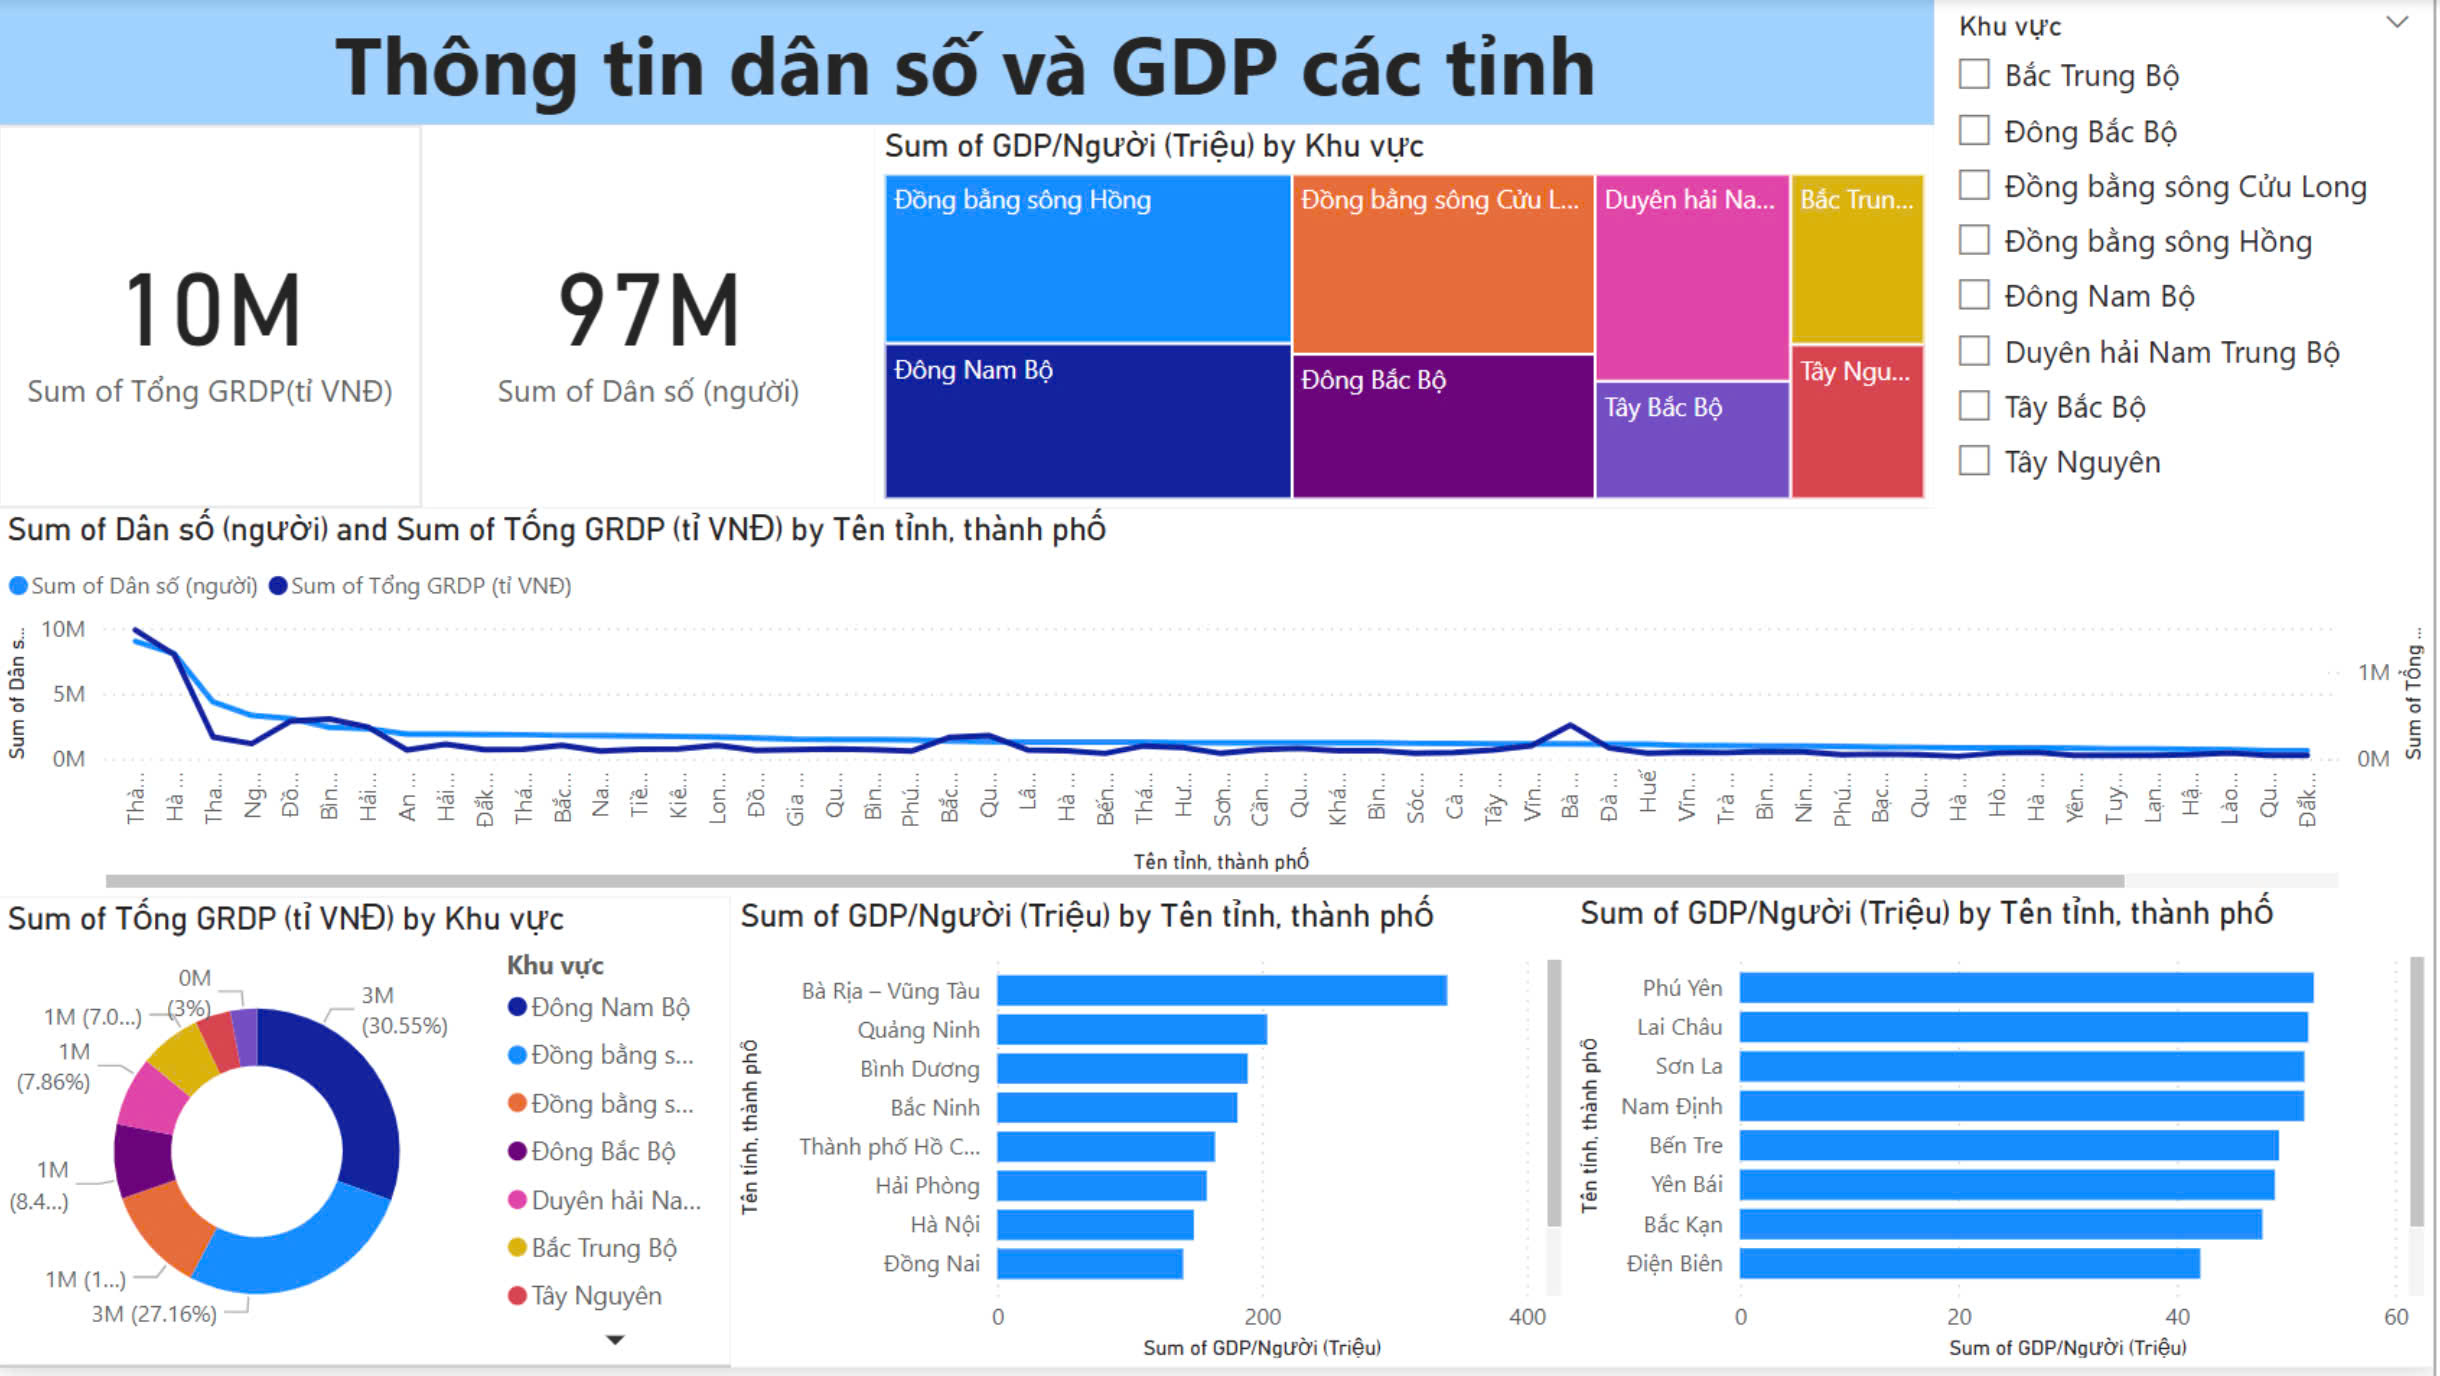

This screenshot's page, from the dashboard's own definition file:
{"tool":"powerbi","page":{"name":"Page 1","canvas":[1280,720],"ordinal":0},"visuals":[{"type":"card","fields":{"Values":["Sum(Danh sách các đơn vị hành chính Việt Nam theo Tổng sản phẩm trên địa bàn (GRDP).Tổng GRDP(tỉ VNĐ))"]},"box":[0,66.7,222.9,201.7],"z":0},{"type":"textbox","box":[0,0,1017.6,66.7],"z":1000},{"type":"card","fields":{"Values":["Sum(Danh sách các tỉnh thành.Dân số (người))"]},"box":[222.9,66.7,238.1,201.7],"z":2000},{"type":"lineChart","fields":{"Category":["Danh sách các tỉnh thành.Tên tỉnh, thành phố"],"Y":["Sum(Danh sách các tỉnh thành.Dân số (người))"],"Y2":["Sum(Danh sách các tỉnh thành.Tổng GRDP (tỉ VNĐ))"]},"box":[0,268.4,1280,204.7],"z":3000},{"type":"donutChart","fields":{"Category":["Danh sách các tỉnh thành.Khu vực"],"Y":["Sum(Danh sách các tỉnh thành.Tổng GRDP (tỉ VNĐ))"]},"box":[0,473.2,385.2,245.7],"z":3001},{"type":"barChart","fields":{"Category":["Danh sách các tỉnh thành.Tên tỉnh, thành phố"],"Y":["Sum(Danh sách các tỉnh thành.GDP/Người (Triệu))"]},"box":[385.2,471.7,441.3,248.7],"z":3002},{"type":"barChart","fields":{"Category":["Danh sách các tỉnh thành.Tên tỉnh, thành phố"],"Y":["Sum(Danh sách các tỉnh thành.GDP/Người (Triệu))"]},"box":[826.5,470.1,453.5,250.2],"z":3003},{"type":"slicer","fields":{"Values":["Danh sách các tỉnh thành.Khu vực"]},"box":[1017.6,0,262.4,268.4],"z":3004},{"type":"treemap","fields":{"Group":["Danh sách các tỉnh thành.Khu vực"],"Values":["Sum(Danh sách các tỉnh thành.GDP/Người (Triệu))"]},"box":[461,66.7,556.6,201.7],"z":3005}]}

Visuals, with their boxes in screenshot pixels (x1, y1, x2, y2), scaled from the page's 1280x720 canvas onto the 2440x1376 screenshot:
card - Sum(Danh sách các đơn vị hành chính Việt Nam theo Tổng sản phẩm trên địa bàn (GRDP).Tổng GRDP(tỉ VNĐ)): 0 127 425 513
textbox: 0 0 1940 127
card - Sum(Danh sách các tỉnh thành.Dân số (người)): 425 127 879 513
lineChart - Danh sách các tỉnh thành.Tên tỉnh, thành phố x Sum(Danh sách các tỉnh thành.Dân số (người)): 0 513 2439 904
donutChart - Danh sách các tỉnh thành.Khu vực x Sum(Danh sách các tỉnh thành.Tổng GRDP (tỉ VNĐ)): 0 904 734 1374
barChart - Danh sách các tỉnh thành.Tên tỉnh, thành phố x Sum(Danh sách các tỉnh thành.GDP/Người (Triệu)): 734 901 1576 1375
barChart - Danh sách các tỉnh thành.Tên tỉnh, thành phố x Sum(Danh sách các tỉnh thành.GDP/Người (Triệu)): 1576 898 2439 1375
slicer - Danh sách các tỉnh thành.Khu vực: 1940 0 2439 513
treemap - Danh sách các tỉnh thành.Khu vực x Sum(Danh sách các tỉnh thành.GDP/Người (Triệu)): 879 127 1940 513
